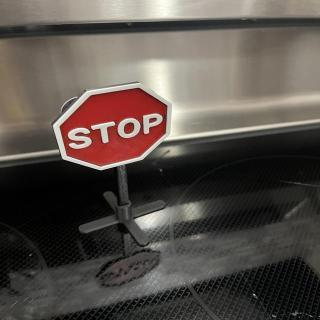sign_stop: (53, 81, 174, 172)
